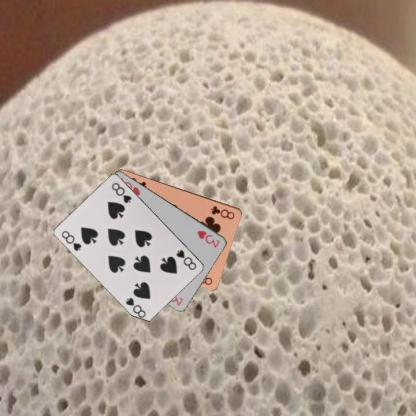3h: (195, 228, 221, 249)
8c: (208, 203, 236, 221)
8s: (174, 247, 198, 272), (59, 228, 83, 253)
